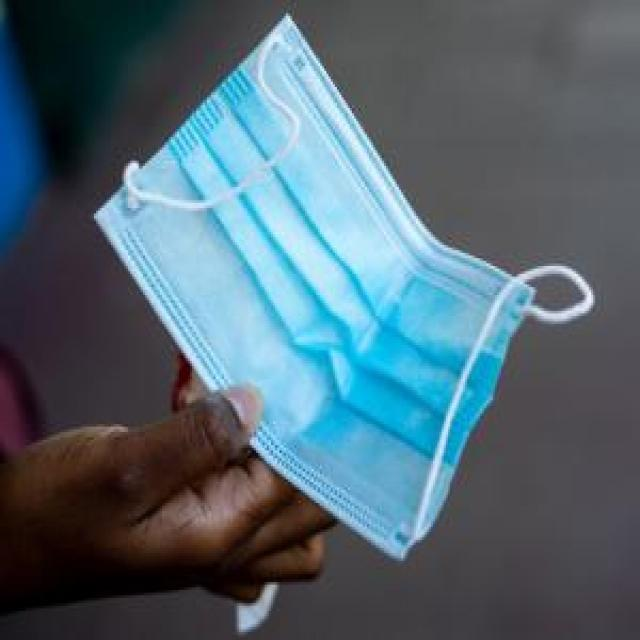face mask: (92, 23, 582, 580)
